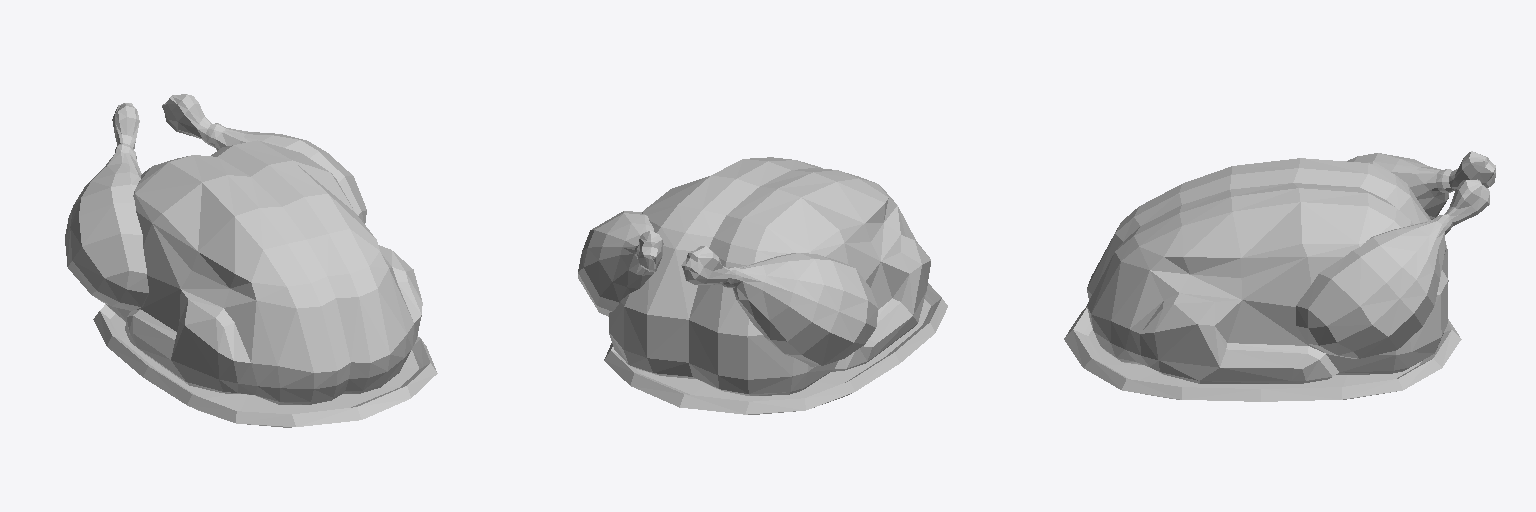
Rendered from chicken.obj.
The picture shows the model from 3 angles: view 1: azimuth 30°, elevation 25°; view 2: azimuth 150°, elevation 25°; view 3: azimuth 270°, elevation 25°; orthographic projection.
Parts seen in each view (by area): view 1: chicken; view 2: chicken; view 3: chicken.
Part boxes in pixels (left/top/right/bottom): chicken: left=65, top=94, right=437, bottom=427; chicken: left=578, top=157, right=947, bottom=414; chicken: left=1064, top=151, right=1495, bottom=401.
Bounding box in the file's own units: 86.34 × 51.86 × 115.